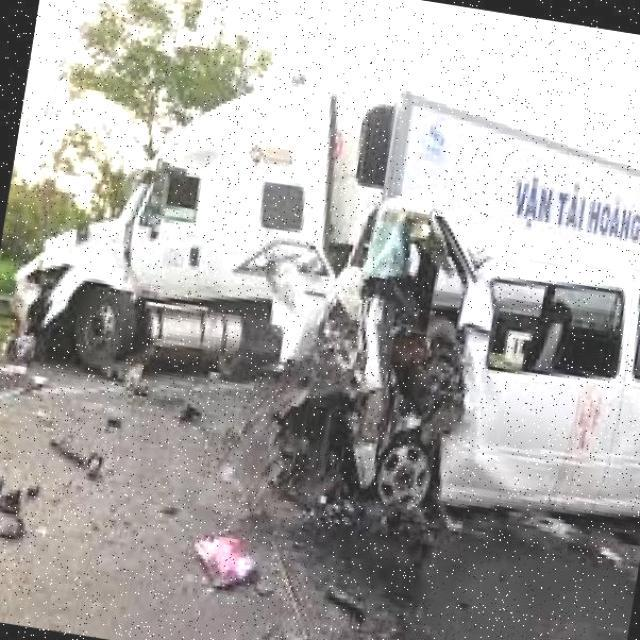accident: (195, 179, 555, 574), (0, 176, 210, 394)
